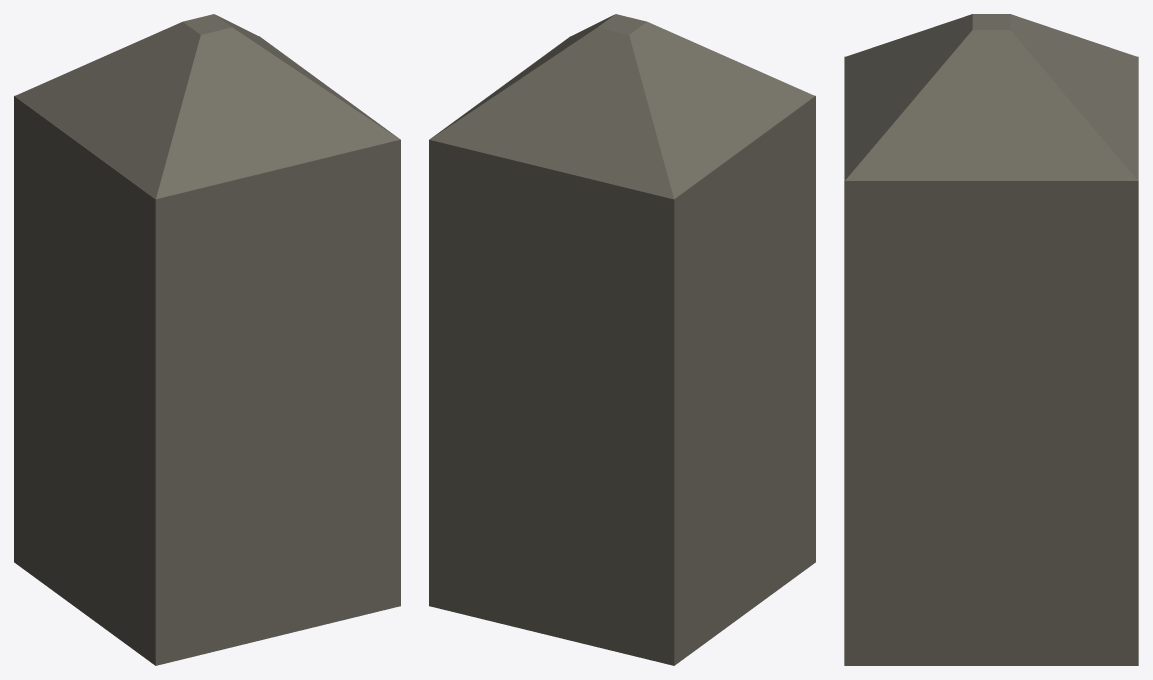
Rendered from stupic-beton.glb.
3 renders of one model, left to right at view 1: azimuth 30°, elevation 25°; view 2: azimuth 150°, elevation 25°; view 3: azimuth 270°, elevation 25°, orthographic. The views are drawn at different scales.
Visible parts, largest first — view 1: stupic-beton; view 2: stupic-beton; view 3: stupic-beton.
Boxes of the visible parts, left/top/right/bottom form: stupic-beton: left=14, top=14, right=400, bottom=665; stupic-beton: left=429, top=14, right=815, bottom=665; stupic-beton: left=844, top=14, right=1138, bottom=665.
Size of the model in its own units: 0.22 by 0.48 by 0.22.
Materials: 1 (1 with a texture image).
